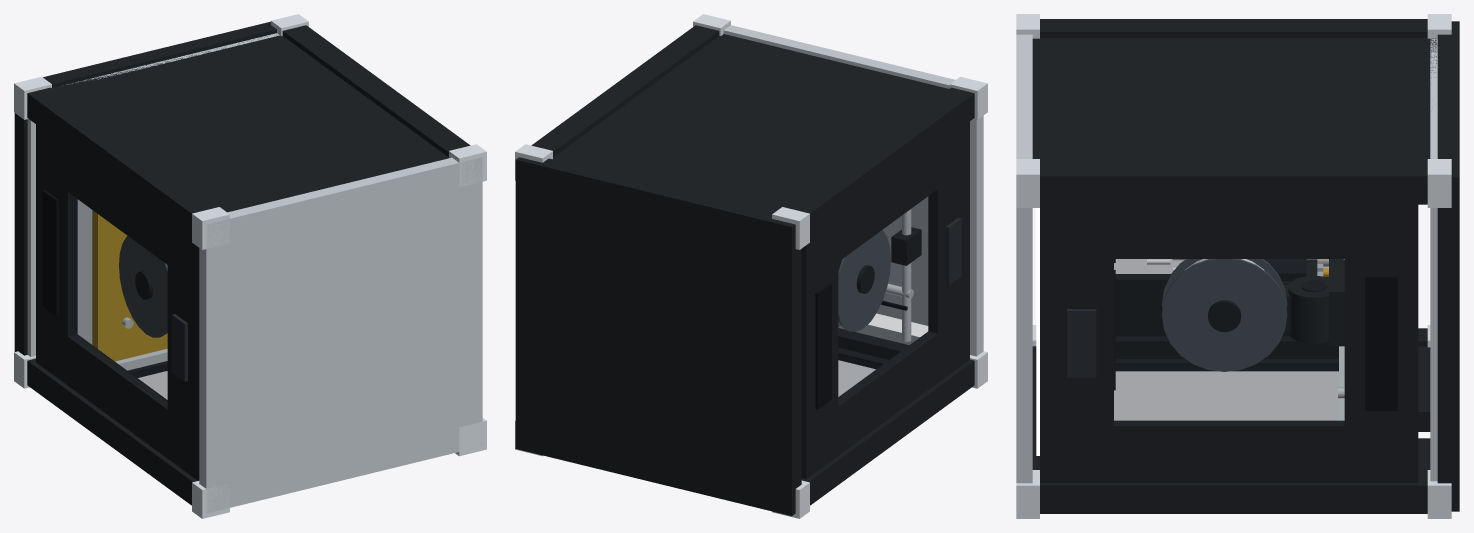
File: deltrol_p2s_optimized.glb
The picture shows the model from 3 angles, left to right: view 1: azimuth 30°, elevation 25°; view 2: azimuth 150°, elevation 25°; view 3: azimuth 270°, elevation 25°; orthographic projection. The views are drawn at different scales.
Parts seen in each view (by area): view 1: top_rim_outer, rear_panel, left_glass_window, corner_post_-0.185_0.185, left_wall_bot, left_wall_top, base_plinth, left_wall_front, build_plate, bottom_panel, corner_post_-0.185_-0.185, corner_post_0.185_0.185 (+11 smaller); view 2: base_plinth, rear_panel, left_glass_window, top_rim_outer, left_wall_top, corner_post_-0.185_0.185, left_wall_bot, left_wall_front, corner_post_-0.185_-0.185, corner_post_0.185_0.185, left_wall_rear, left_carbon_spool_flange_L (+11 smaller); view 3: rear_panel, right_glass_window, right_wall_top, right_wall_bot, corner_post_0.185_0.185, right_wall_front, right_wall_rear, front_glass_door, corner_post_0.185_-0.185, right_white_spool_flange_R, base_plinth, corner_post_-0.185_0.185 (+22 smaller).
Boxes of the visible parts, bbox=[...] form: top_rim_outer: bbox=[199, 157, 482, 513]; rear_panel: bbox=[52, 35, 448, 212]; left_glass_window: bbox=[70, 194, 166, 405]; corner_post_-0.185_0.185: bbox=[27, 87, 214, 237]; left_wall_bot: bbox=[36, 124, 77, 385]; left_wall_top: bbox=[167, 221, 199, 480]; base_plinth: bbox=[14, 21, 276, 355]; left_wall_front: bbox=[68, 334, 167, 458]; build_plate: bbox=[92, 210, 167, 361]; bottom_panel: bbox=[27, 33, 279, 356]; corner_post_-0.185_-0.185: bbox=[27, 358, 197, 505]; corner_post_0.185_0.185: bbox=[282, 25, 470, 157]; base_plinth: bbox=[515, 157, 801, 516]; rear_panel: bbox=[553, 34, 948, 213]; left_glass_window: bbox=[839, 192, 935, 403]; top_rim_outer: bbox=[723, 25, 983, 356]; left_wall_top: bbox=[928, 121, 969, 382]; corner_post_-0.185_0.185: bbox=[787, 87, 974, 237]; left_wall_bot: bbox=[801, 218, 838, 478]; left_wall_front: bbox=[838, 331, 937, 455]; corner_post_-0.185_-0.185: bbox=[801, 359, 974, 505]; corner_post_0.185_0.185: bbox=[531, 25, 719, 157]; left_wall_rear: bbox=[838, 145, 937, 261]; left_carbon_spool_flange_L: bbox=[838, 230, 890, 331]; rear_panel: bbox=[1032, 38, 1437, 162]; right_glass_window: bbox=[1114, 259, 1343, 424]; right_wall_top: bbox=[1040, 204, 1113, 482]; right_wall_bot: bbox=[1344, 204, 1418, 482]; corner_post_0.185_0.185: bbox=[1040, 163, 1427, 204]; right_wall_front: bbox=[1114, 420, 1344, 482]; right_wall_rear: bbox=[1114, 204, 1344, 258]; front_glass_door: bbox=[1114, 356, 1338, 419]; corner_post_0.185_-0.185: bbox=[1040, 472, 1427, 513]; right_white_spool_flange_R: bbox=[1162, 259, 1287, 371]; base_plinth: bbox=[1437, 21, 1459, 511]; corner_post_-0.185_0.185: bbox=[1040, 19, 1427, 37].
Size of the model in its own units: 0.412 by 0.417 by 0.481.
17 materials, 17 textured.
